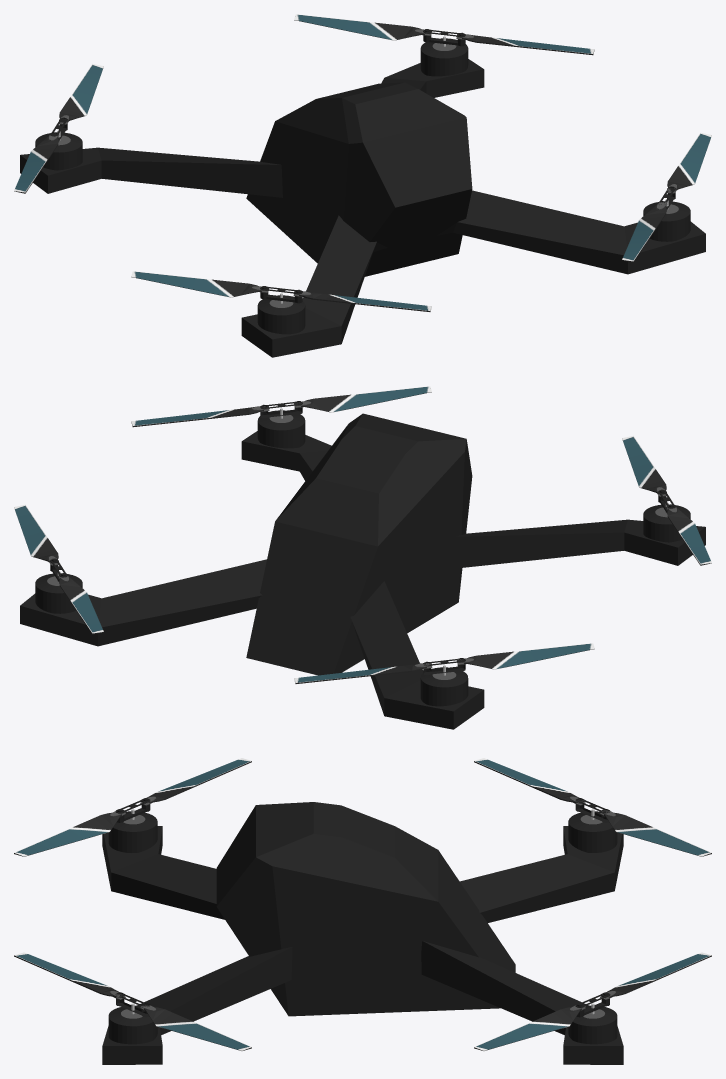
File: quadcopter_new.fbx
The picture shows the model from 3 angles, top to bottom: view 1: azimuth 30°, elevation 25°; view 2: azimuth 150°, elevation 25°; view 3: azimuth 270°, elevation 25°; orthographic projection. The views are drawn at different scales.
Parts seen in each view (by area): view 1: Frame, Back Left, Front Right, Front Left, Back Right; view 2: Frame, Front Left, Back Right, Back Left, Front Right; view 3: Frame, Back Left, Back Right, Front Left, Front Right.
Boxes of the visible parts, box(x1,y1,x2,y2) form: Frame: box(20, 38, 705, 357); Back Left: box(294, 14, 594, 55); Front Right: box(131, 271, 431, 311); Front Left: box(622, 132, 711, 262); Back Right: box(14, 64, 103, 193); Frame: box(20, 410, 705, 729); Front Left: box(131, 386, 431, 427); Back Right: box(294, 643, 594, 683); Back Left: box(14, 504, 103, 634); Front Right: box(622, 436, 711, 565); Frame: box(102, 802, 623, 1064); Back Left: box(474, 952, 711, 1050); Back Right: box(474, 758, 711, 856); Front Left: box(14, 952, 251, 1050); Front Right: box(14, 758, 251, 856).
Bounding box in the file's own units: 151 × 40.42 × 152.
Materials: 4 (1 with a texture image).
